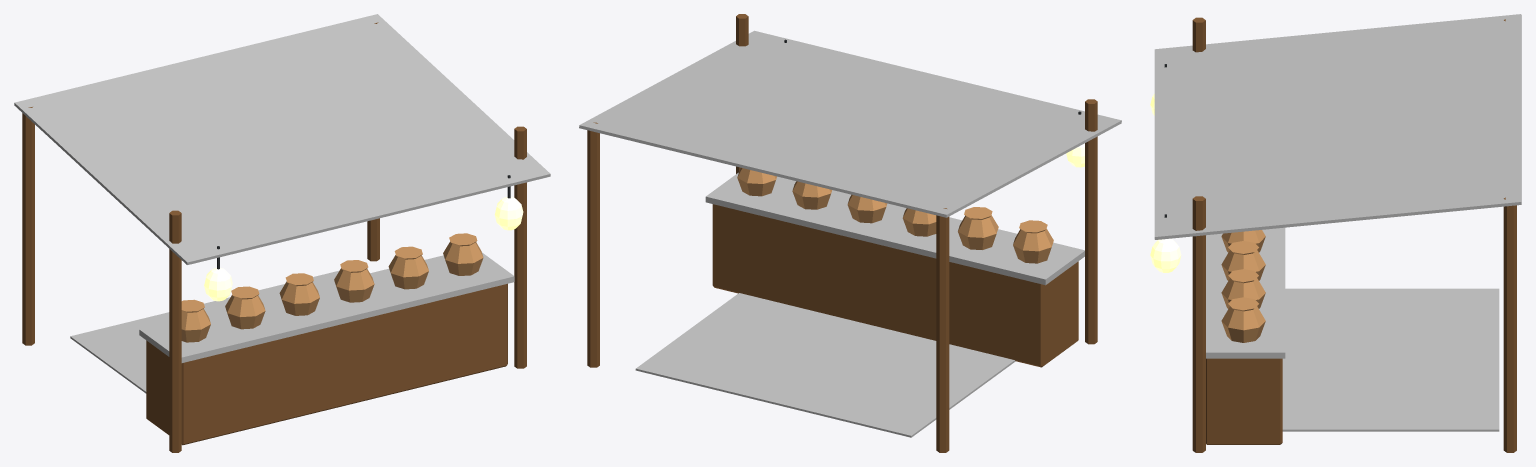
The model's file is map3_tent_bazaar_v01.glb.
The picture shows the model from 3 angles, left to right: view 1: azimuth 30°, elevation 25°; view 2: azimuth 150°, elevation 25°; view 3: azimuth 270°, elevation 25°; orthographic projection. The views are drawn at different scales.
Visible parts, largest first — view 1: tent_bazaar; view 2: tent_bazaar; view 3: tent_bazaar.
Part boxes in pixels (x1,y1,x2,y2): tent_bazaar: [14, 14, 550, 452]; tent_bazaar: [579, 14, 1121, 452]; tent_bazaar: [1150, 14, 1521, 452].
Size of the model in its own units: 4 by 2.51 by 3.34.
